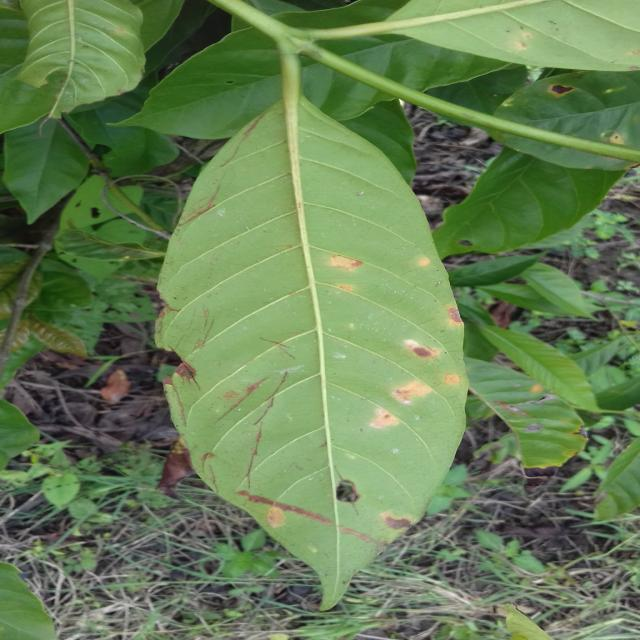Enfermedad-Roya: (157, 57, 469, 611)
